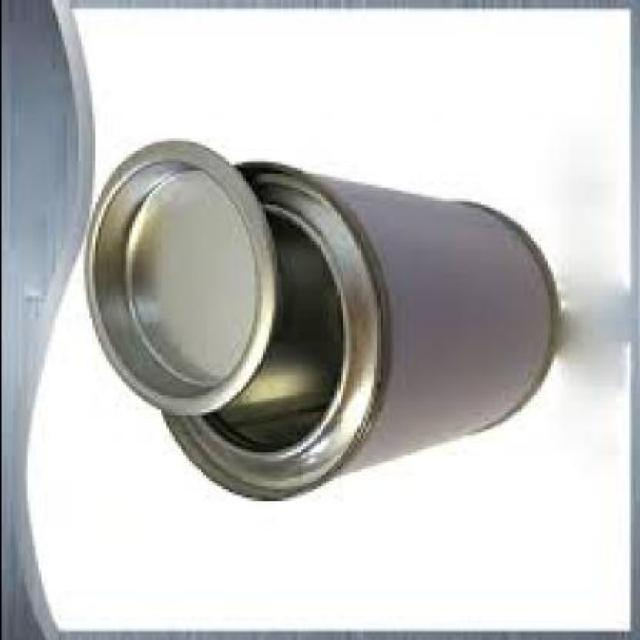METAL: (148, 159, 554, 498), (79, 134, 276, 415)
